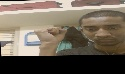hand: (33, 26, 68, 45)
